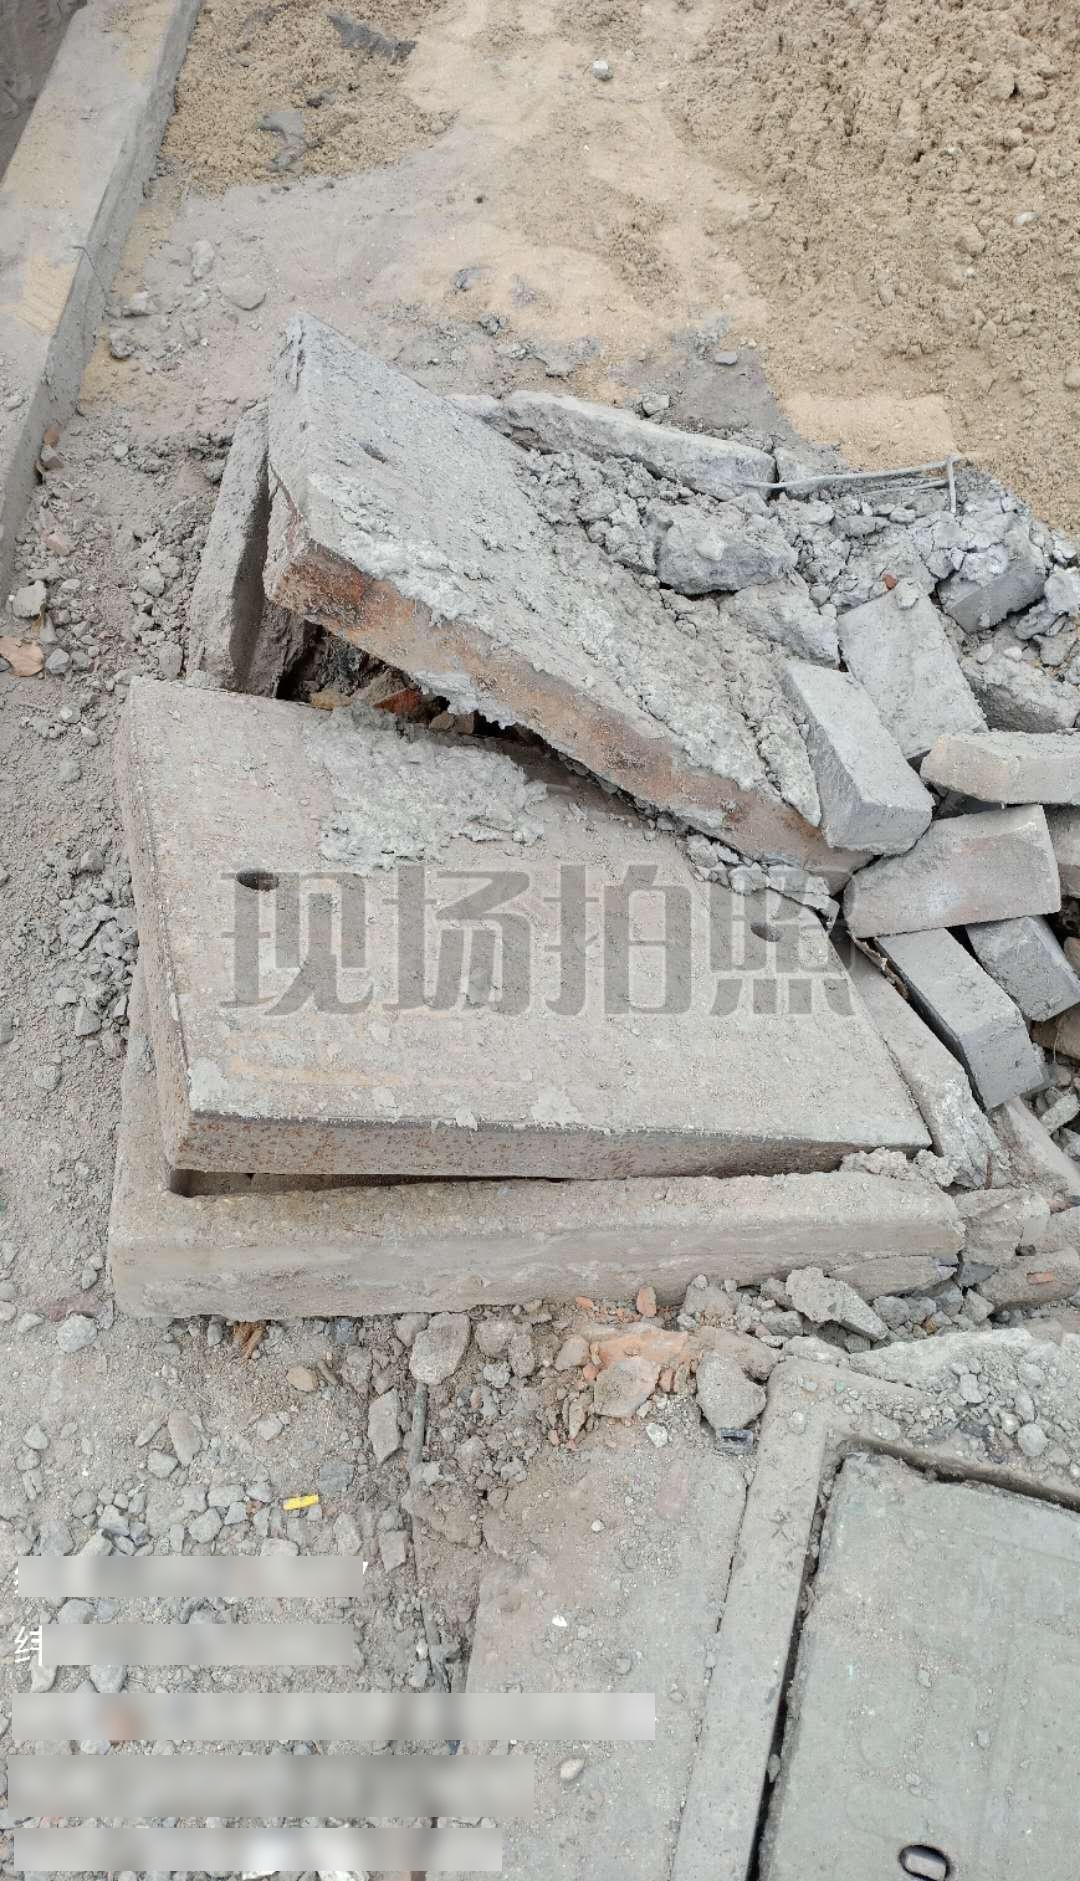uncovered: (101, 323, 971, 1314)
